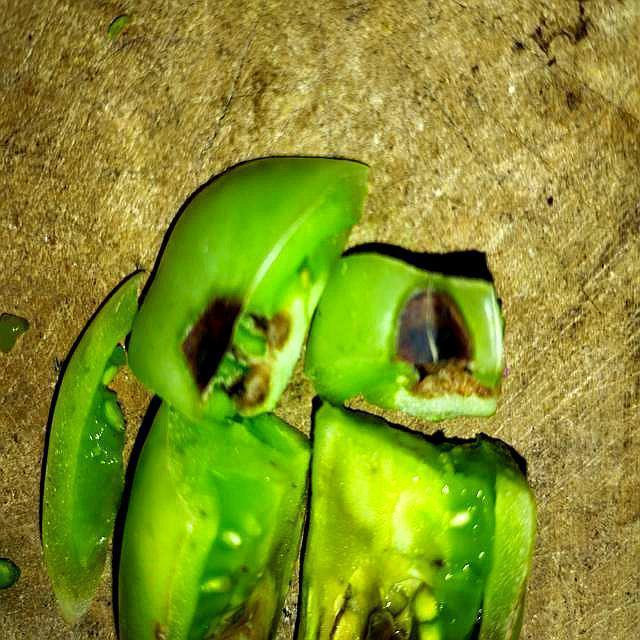Biodegradable: (43, 159, 537, 640)
